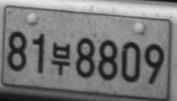0: (120, 40, 141, 83)
1: (30, 33, 50, 74)
8: (97, 38, 118, 81), (6, 30, 28, 71), (75, 37, 95, 78)
9: (143, 42, 165, 84)
부: (51, 41, 70, 75)
